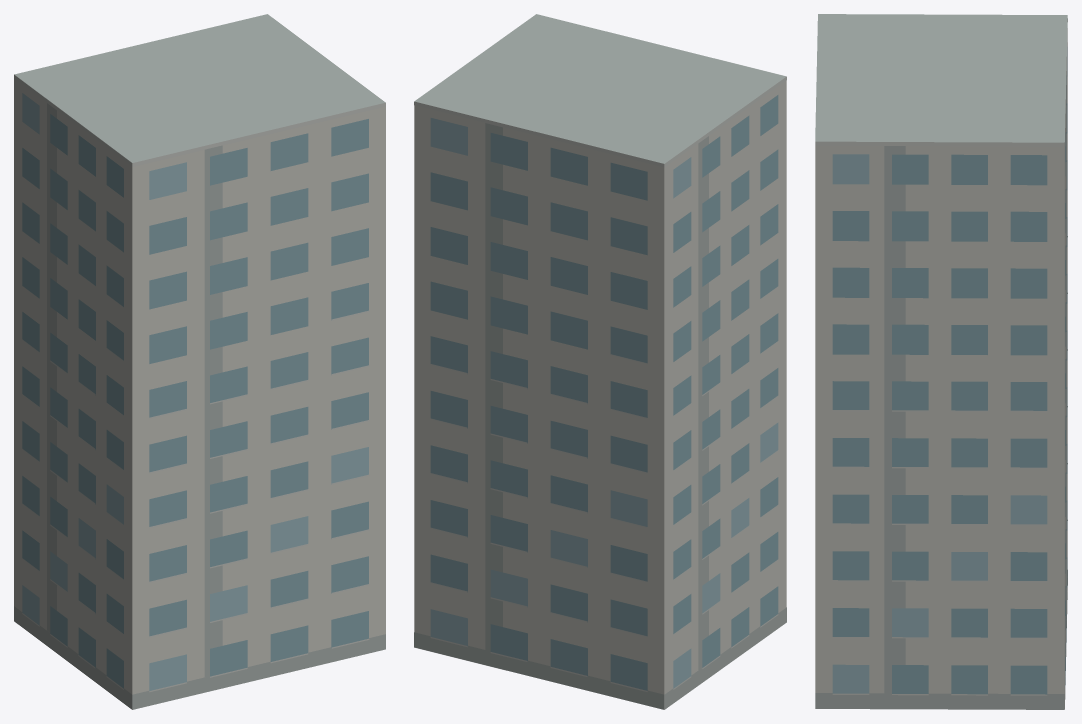
Rendered from residential-0595655a-6da2-4856-84c1-4be87bac6770.glb.
3 renders of one model, left to right at view 1: azimuth 30°, elevation 25°; view 2: azimuth 150°, elevation 25°; view 3: azimuth 270°, elevation 25°, orthographic. The views are drawn at different scales.
Parts seen in each view (by area): view 1: residential-0595655a-6da2-4856-84c1-4be87bac6770.tmp; view 2: residential-0595655a-6da2-4856-84c1-4be87bac6770.tmp; view 3: residential-0595655a-6da2-4856-84c1-4be87bac6770.tmp.
Boxes of the visible parts, x1,y1,x2,y2 form: residential-0595655a-6da2-4856-84c1-4be87bac6770.tmp: [14, 14, 385, 709]; residential-0595655a-6da2-4856-84c1-4be87bac6770.tmp: [414, 14, 786, 709]; residential-0595655a-6da2-4856-84c1-4be87bac6770.tmp: [815, 14, 1067, 709].
Bounding box in the file's own units: 17.04 × 35 × 14.14.
